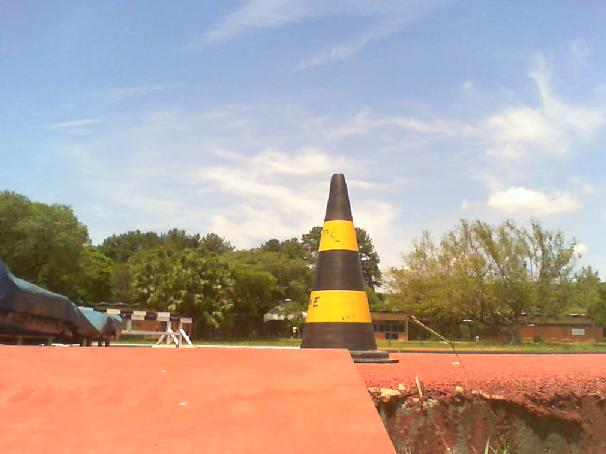0 cone: (300, 172, 400, 365)
